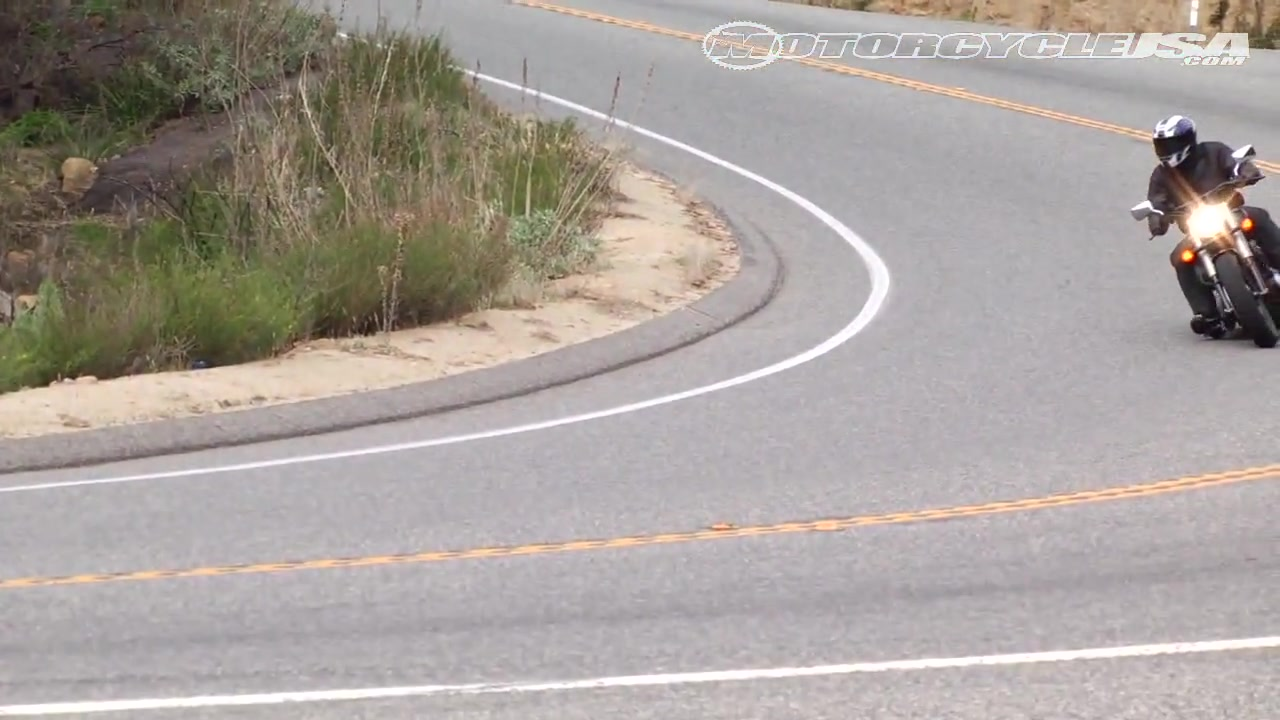motorbike: (1131, 147, 1280, 347)
